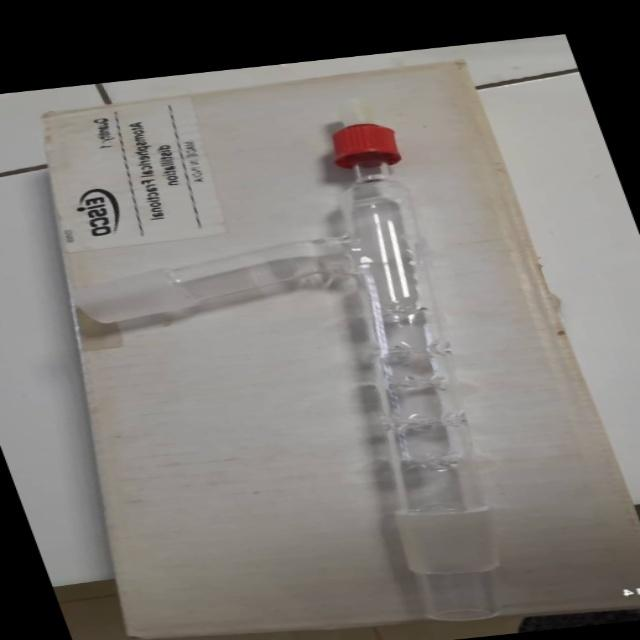Atmospherical Fractional Distillation: (9, 97, 602, 640)
